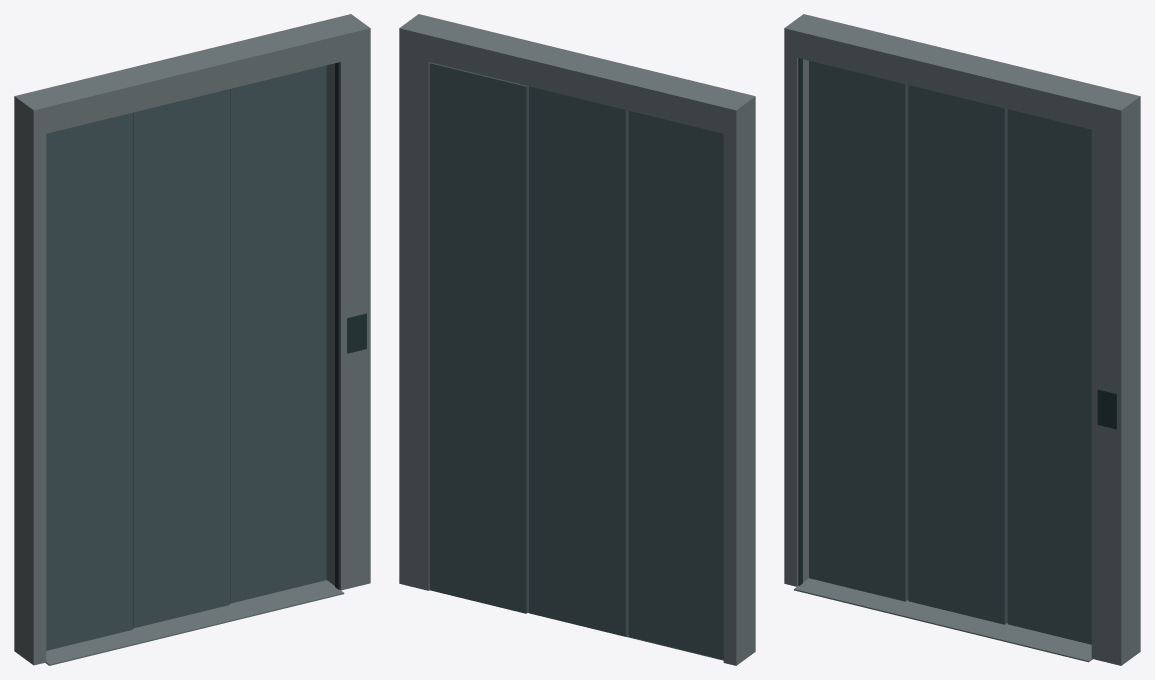
3 renders of one model, left to right at view 1: azimuth 30°, elevation 25°; view 2: azimuth 150°, elevation 25°; view 3: azimuth 330°, elevation 25°, orthographic.
Visible parts, largest first — view 1: EL-B_Leaf_02, EL-B_Leaf_03, EL-B_Leaf_01, EL-B_FrameR, EL-B_FrameL, EL-B_Head, EL-B_Threshold, EL-B_SealR, EL-B_DarkTouch; view 2: EL-B_Leaf_03, EL-B_Leaf_02, EL-B_Leaf_01, EL-B_FrameL, EL-B_FrameR, EL-B_Head; view 3: EL-B_Leaf_01, EL-B_Leaf_02, EL-B_Leaf_03, EL-B_FrameR, EL-B_Head, EL-B_FrameL, EL-B_Threshold, EL-B_SealL, EL-B_DarkTouch.
Boxes of the visible parts, bbox=[...] form: EL-B_Leaf_02: bbox=[133, 89, 229, 628]; EL-B_Leaf_03: bbox=[230, 65, 326, 603]; EL-B_Leaf_01: bbox=[46, 112, 132, 650]; EL-B_FrameR: bbox=[326, 54, 370, 590]; EL-B_FrameL: bbox=[14, 123, 46, 665]; EL-B_Head: bbox=[14, 14, 370, 136]; EL-B_Threshold: bbox=[45, 580, 344, 665]; EL-B_SealR: bbox=[335, 62, 339, 589]; EL-B_DarkTouch: bbox=[347, 313, 366, 353]; EL-B_Leaf_03: bbox=[429, 62, 528, 613]; EL-B_Leaf_02: bbox=[529, 86, 628, 636]; EL-B_Leaf_01: bbox=[628, 111, 723, 659]; EL-B_FrameL: bbox=[723, 123, 755, 665]; EL-B_FrameR: bbox=[399, 55, 430, 590]; EL-B_Head: bbox=[399, 14, 755, 136]; EL-B_Leaf_01: bbox=[809, 61, 908, 601]; EL-B_Leaf_02: bbox=[908, 85, 1007, 624]; EL-B_Leaf_03: bbox=[1007, 109, 1091, 644]; EL-B_FrameR: bbox=[1091, 123, 1140, 665]; EL-B_Head: bbox=[784, 14, 1140, 136]; EL-B_FrameL: bbox=[784, 55, 808, 586]; EL-B_Threshold: bbox=[794, 578, 1092, 662]; EL-B_SealL: bbox=[798, 58, 802, 585]; EL-B_DarkTouch: bbox=[1097, 389, 1116, 429].
Size of the model in its own units: 1.6 by 2.53 by 0.185.
